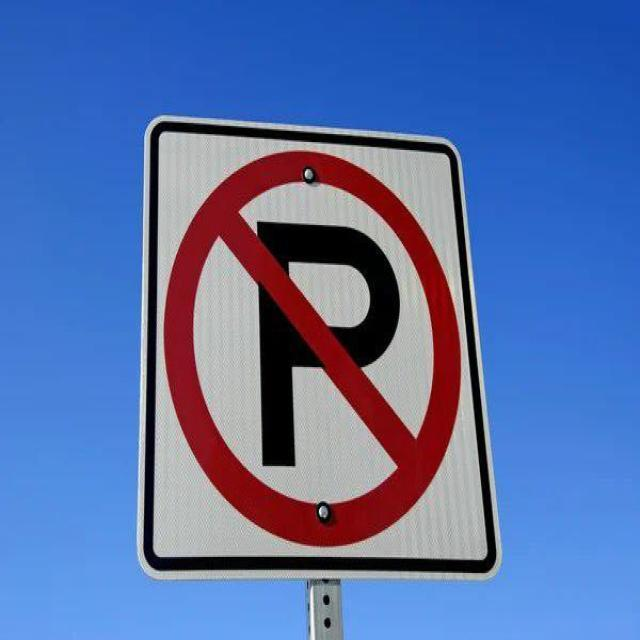no parking: (159, 141, 476, 554)
